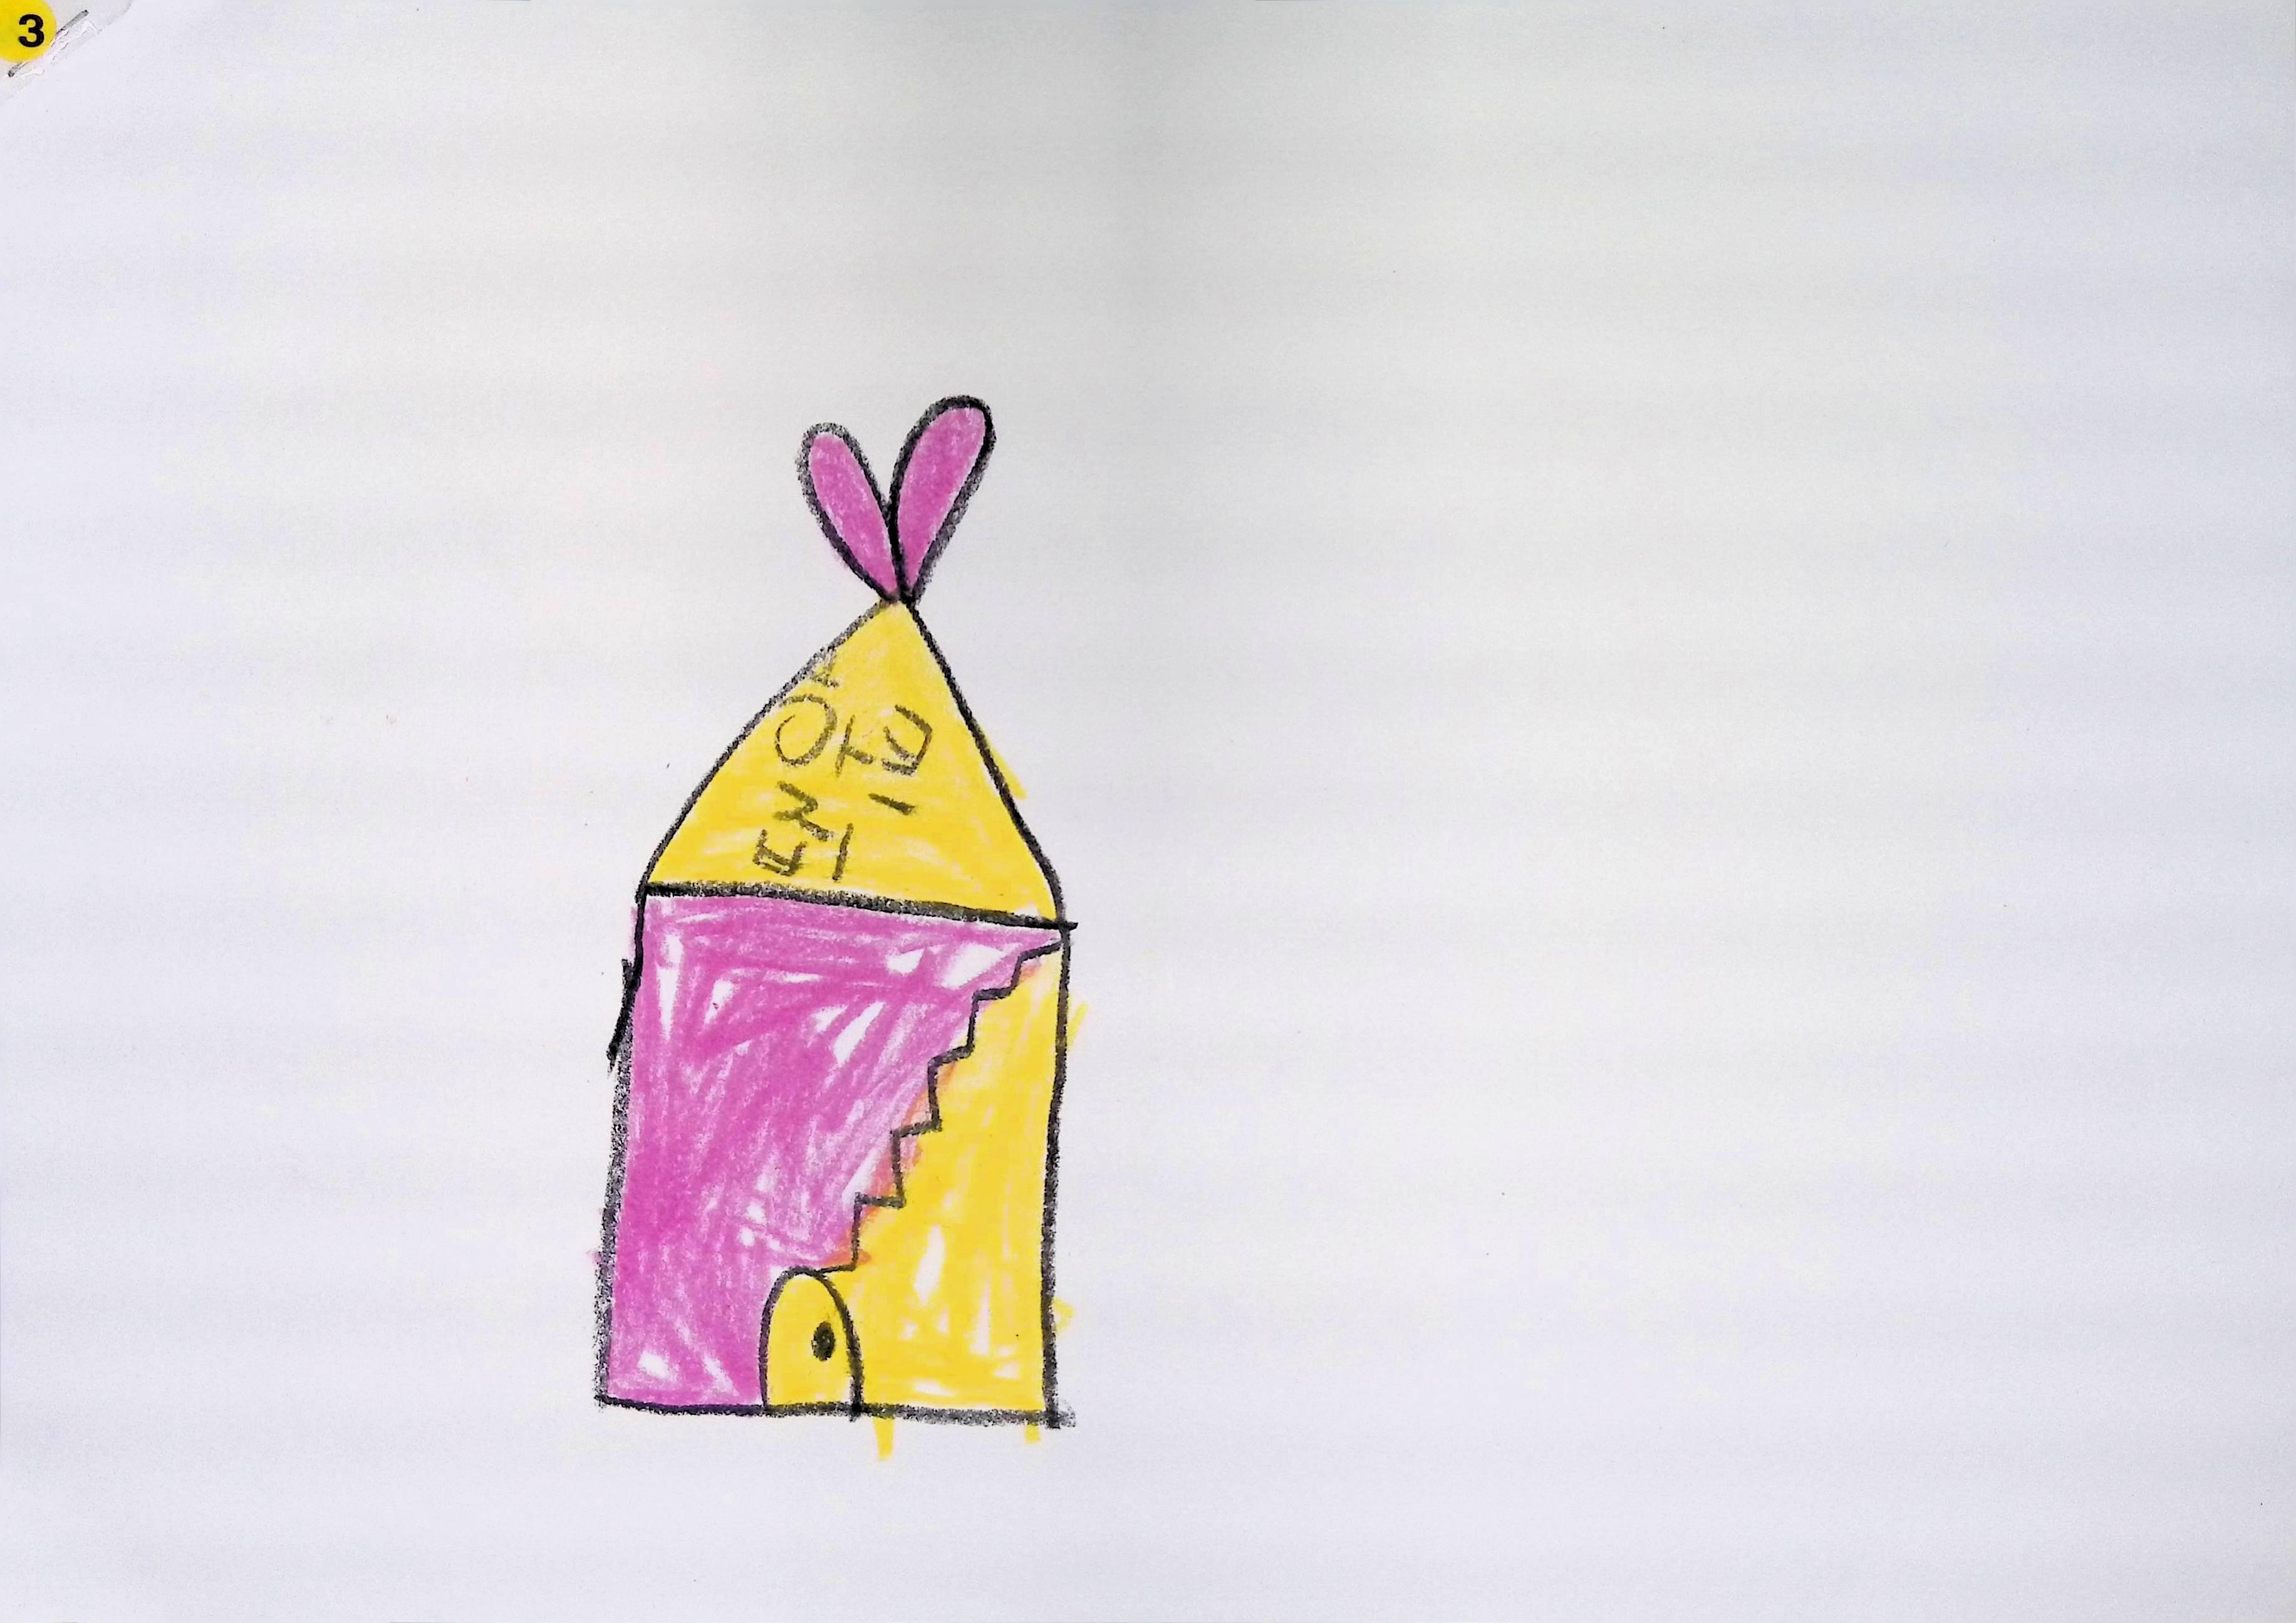door: (762, 1273, 858, 1412)
house: (597, 599, 1067, 1421)
roof: (644, 599, 1060, 920)
